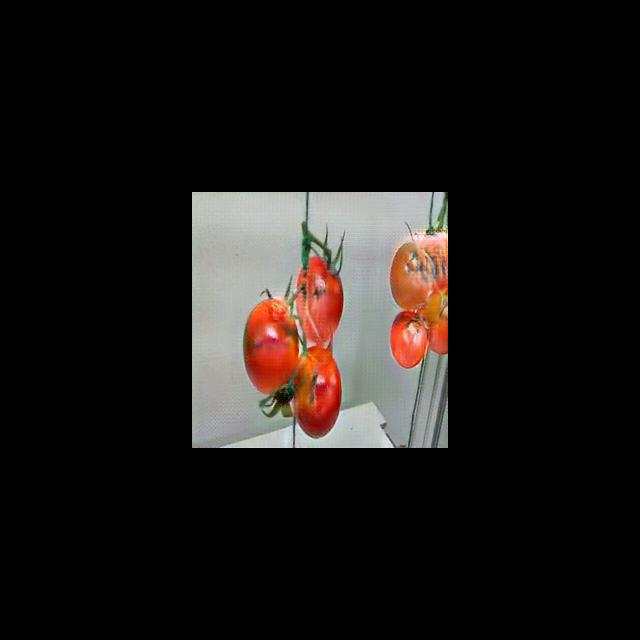tomato: (240, 298, 299, 397), (291, 347, 347, 435), (295, 252, 345, 343), (382, 242, 431, 307)
